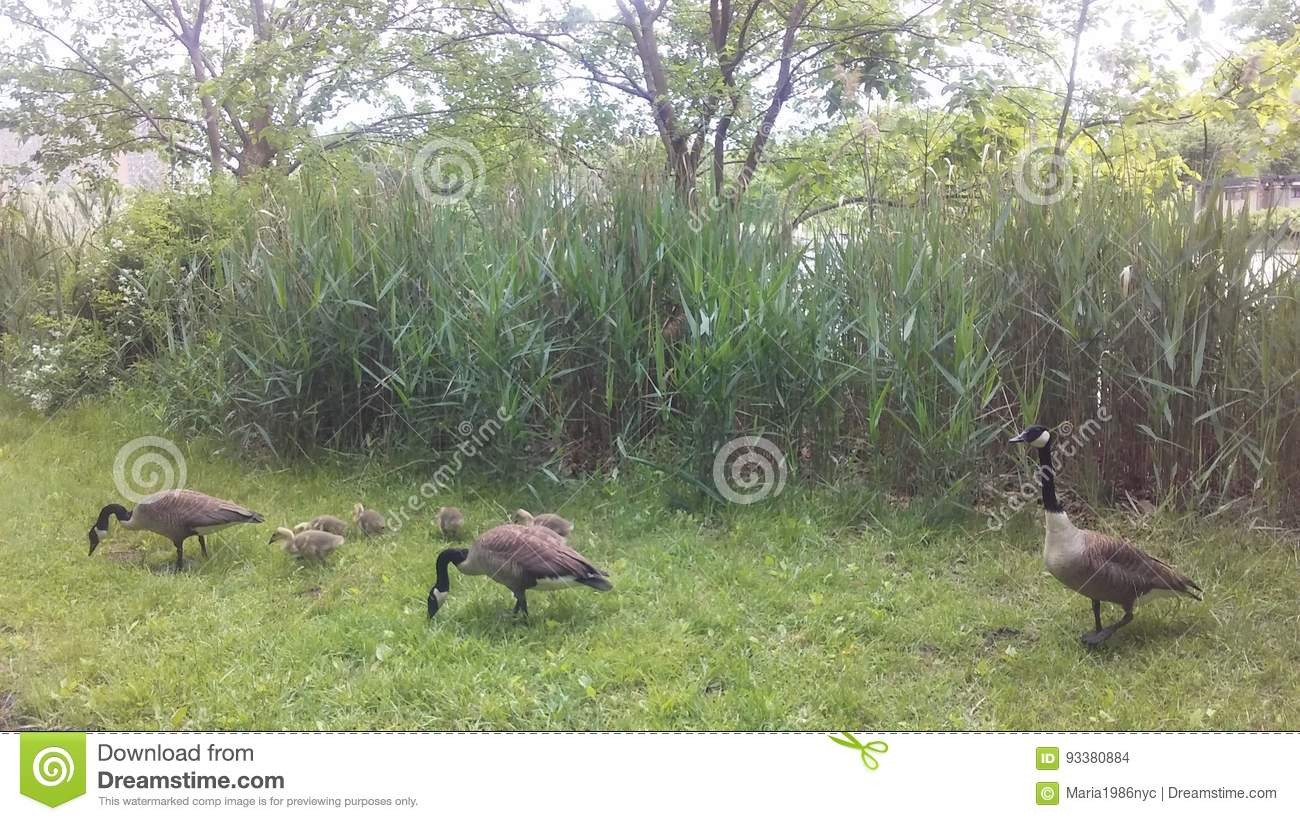goose: (1006, 420, 1202, 649), (424, 524, 618, 628), (84, 485, 266, 577)
